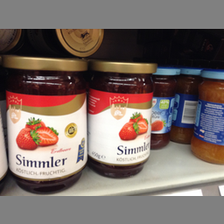jam: (2, 54, 91, 194), (88, 61, 158, 179), (188, 70, 224, 166)
